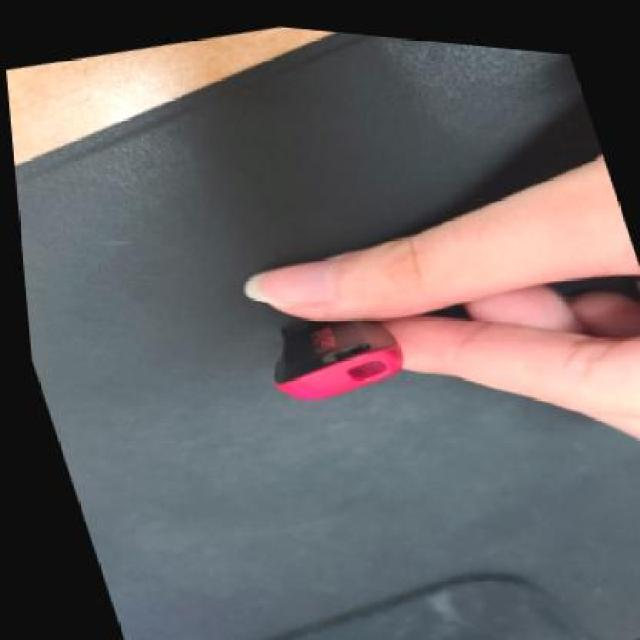Flashdisk: (248, 285, 412, 413)
